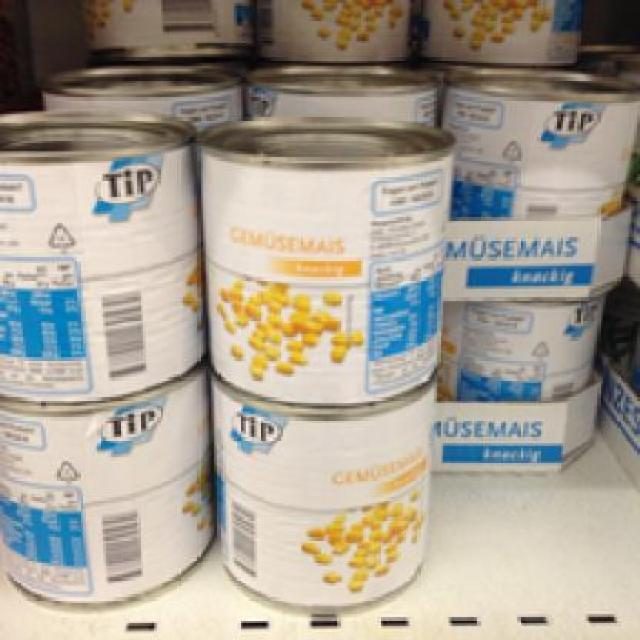Corn: (192, 110, 452, 407), (0, 109, 206, 400), (202, 366, 435, 611), (0, 377, 206, 600)
